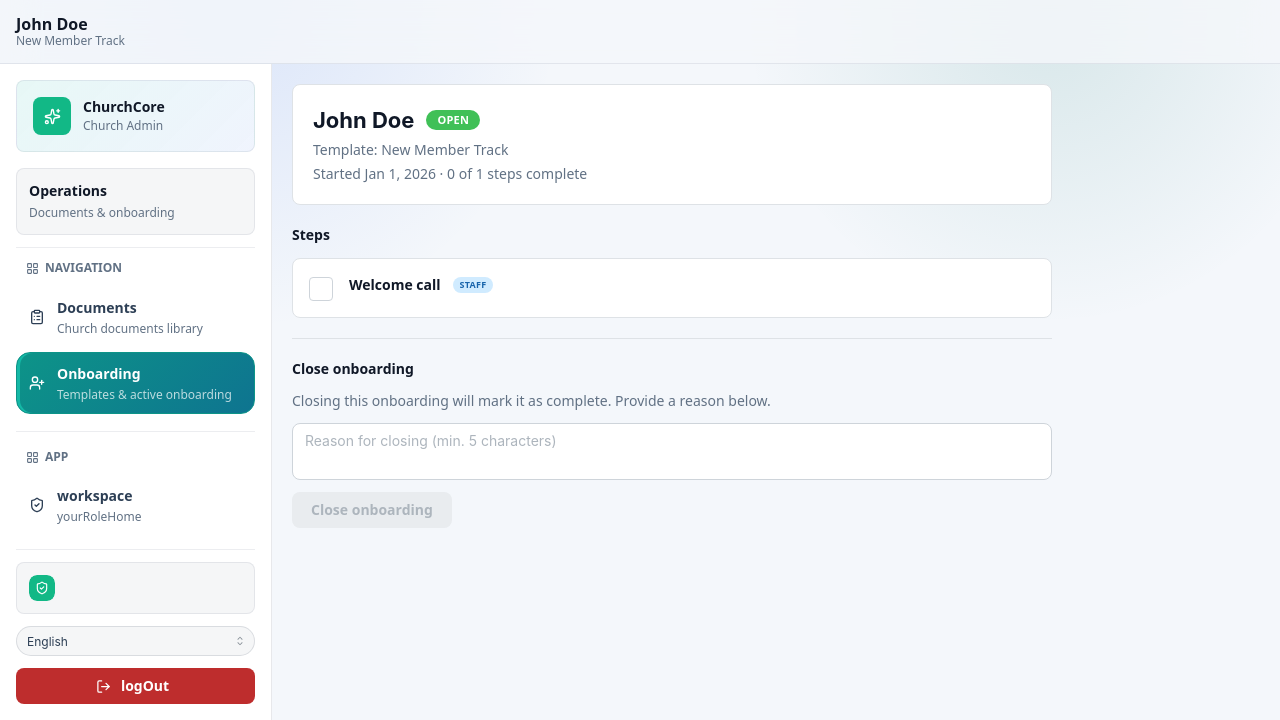
OperationsInstanceDetailClient — complete step (AC17) › shows success alert after completing a step (AC17)
The width and height of the screenshot is (1280, 720).
Click the checkbox named "complete step: welcome call".
click(321, 289)  # box 309,277 -> 333,301
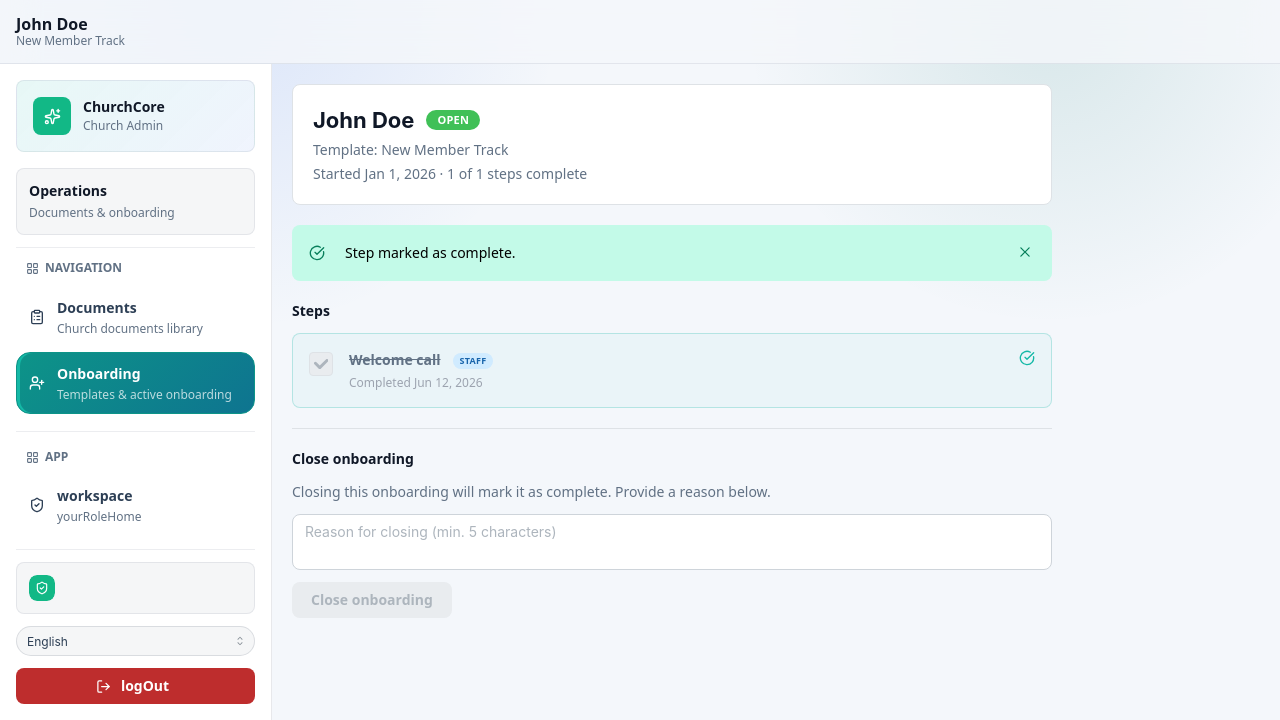
Expected: the text "Step marked as complete." is shown, 345,243 -> 516,262
